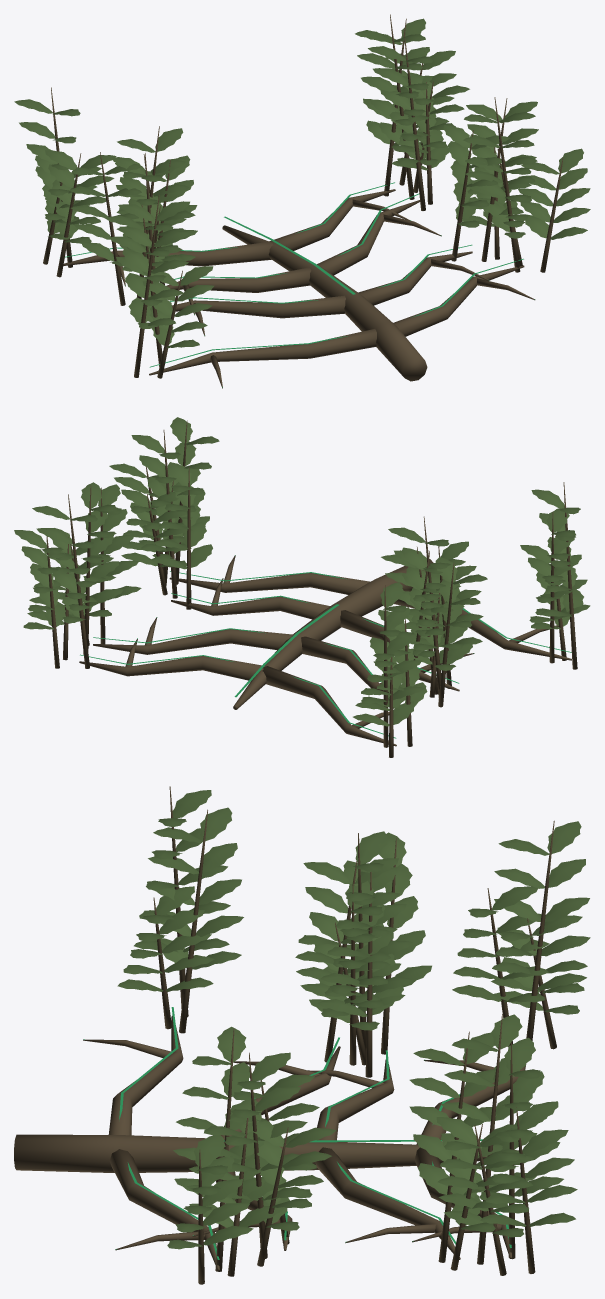
The model's file is green-root-fan.glb.
The picture shows the model from 3 angles, top to bottom: view 1: azimuth 30°, elevation 25°; view 2: azimuth 150°, elevation 25°; view 3: azimuth 270°, elevation 25°; orthographic projection. The views are drawn at different scales.
Parts seen in each view (by area): view 1: LAND04 green-root-fan; view 2: LAND04 green-root-fan; view 3: LAND04 green-root-fan.
Boxes of the visible parts, x1,y1,x2,y2 form: LAND04 green-root-fan: (14,14,590,388); LAND04 green-root-fan: (14,417,590,757); LAND04 green-root-fan: (14,786,590,1284).
Bounding box in the file's own units: 5.27 × 2.05 × 4.18.
